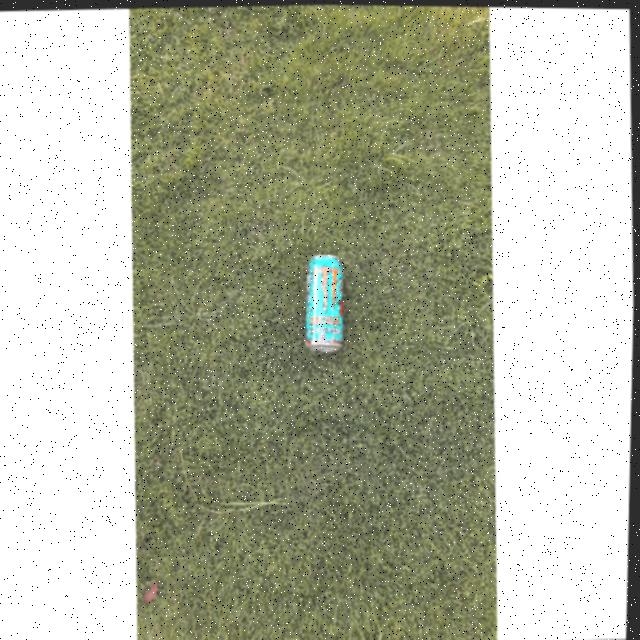Monster Mango Loco: (301, 248, 354, 349)
